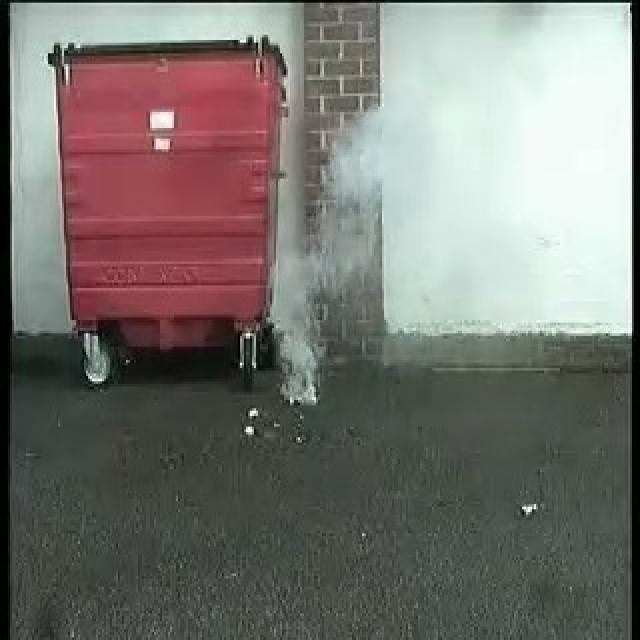smoke: (280, 111, 397, 408)
